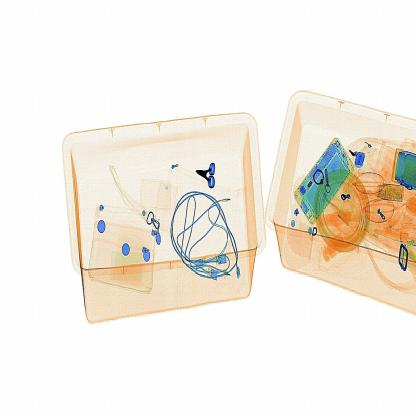gun: (183, 149, 228, 195)
